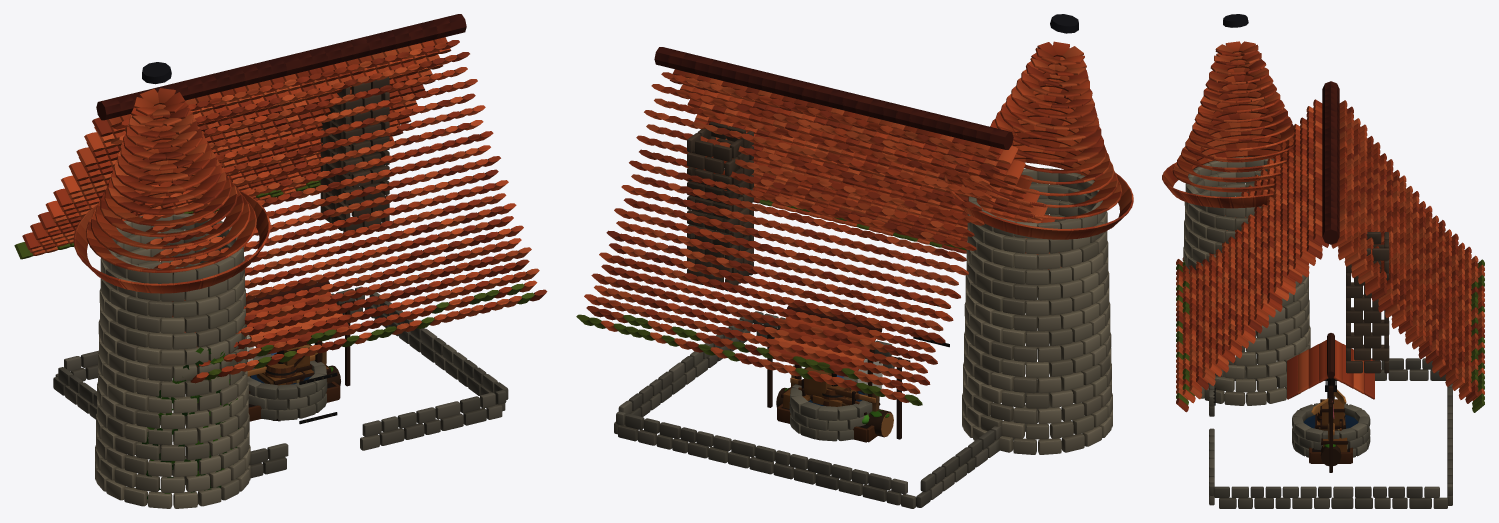
The model's file is ro-props.glb.
3 views of the same model, side by side, from view 1: azimuth 30°, elevation 25°; view 2: azimuth 150°, elevation 25°; view 3: azimuth 270°, elevation 25° (orthographic). The views are drawn at different scales.
Parts seen in each view (by area): view 1: cot_roof, cot_tower, cot_walls, prop_well, prop_crates; view 2: cot_roof, cot_tower, cot_walls, prop_well, prop_crates, prop_laundry, prop_log, prop_vegbed; view 3: cot_roof, cot_tower, cot_walls, prop_well, prop_crates, prop_vegbed.
Boxes of the visible parts, x1,y1,x2,y2 form: cot_roof: (14,14,547,383); cot_tower: (73,62,270,508); cot_walls: (53,77,508,484); prop_well: (246,281,348,420); prop_crates: (262,344,331,385); cot_roof: (576,47,1061,405); cot_tower: (944,14,1133,454); cot_walls: (614,122,1051,508); prop_well: (768,305,882,441); prop_crates: (781,367,858,408); prop_laundry: (760,324,910,439); prop_log: (776,387,893,437); prop_vegbed: (777,403,891,442); cot_roof: (1176,81,1484,412); cot_tower: (1162,14,1310,405); cot_walls: (1209,232,1452,508); prop_well: (1287,333,1374,457); prop_crates: (1314,399,1347,451); prop_vegbed: (1309,447,1352,463).
Bounding box in the file's own units: 10.19 × 9.72 × 7.94.
